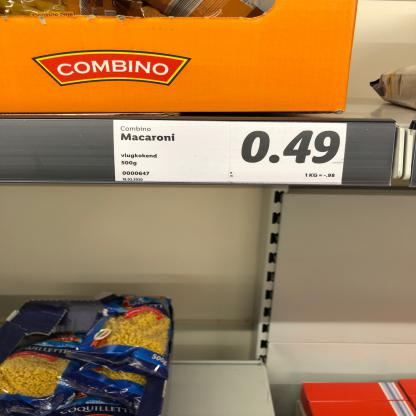prtg: (114, 120, 348, 186)
